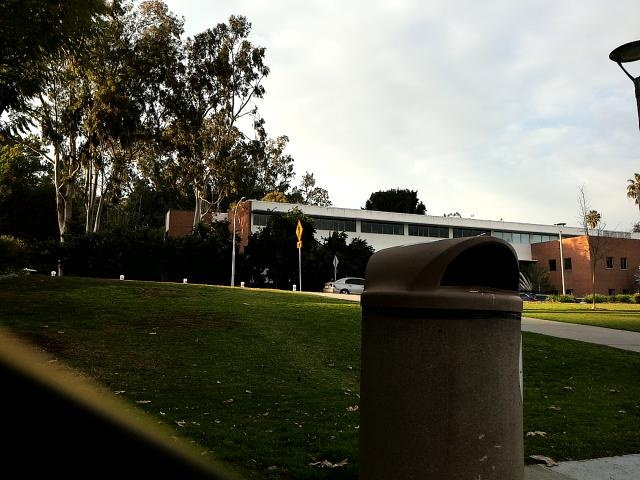trashcan: (345, 226, 538, 480)
